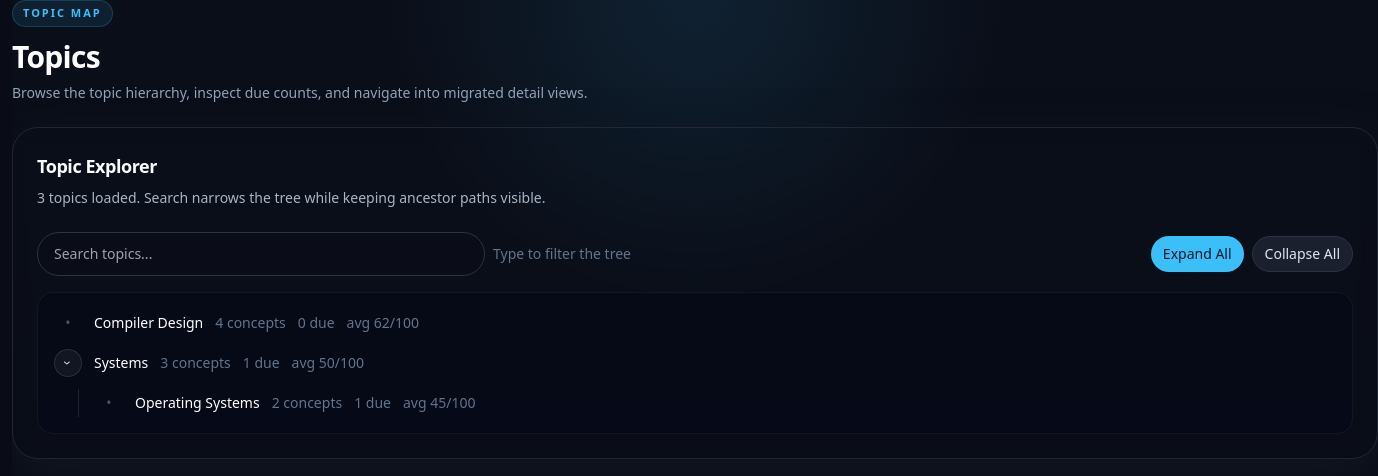
TopicsListPage › renders topic hierarchy and filters by search query
This screenshot has width=1378, height=476.
Expected: the heading "Topics" is shown, [12, 36, 100, 76]
Expected: the link "Systems" is shown, [94, 352, 148, 372]
Type "compiler" into the field with placeholder "Search topics..." at (261, 254), box [37, 232, 485, 276]
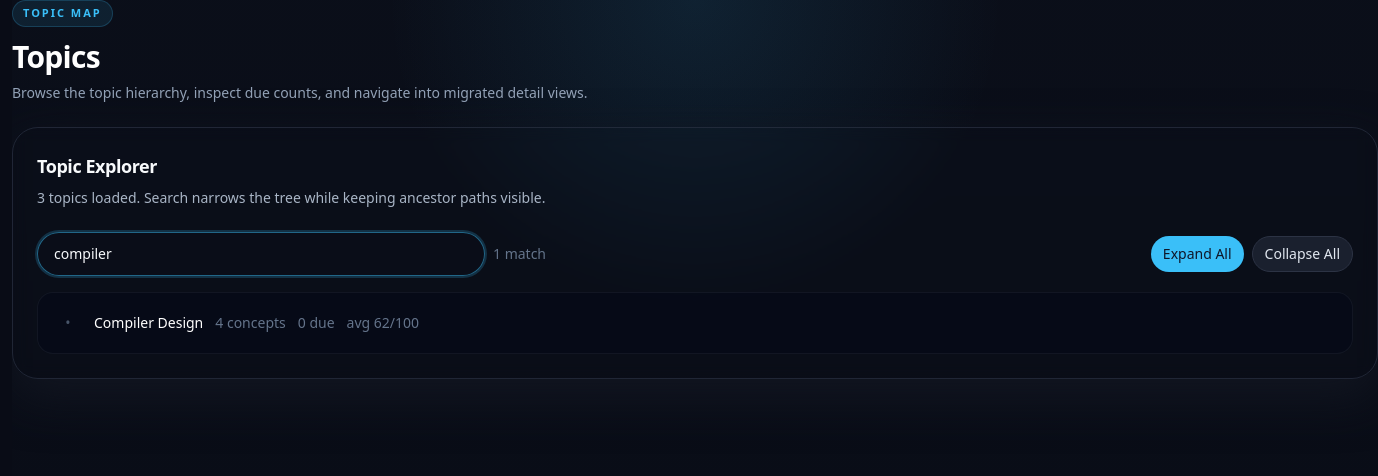
Expected: the link "Compiler Design" is shown, [94, 312, 203, 332]
Expected: the link "Operating Systems" is gone
